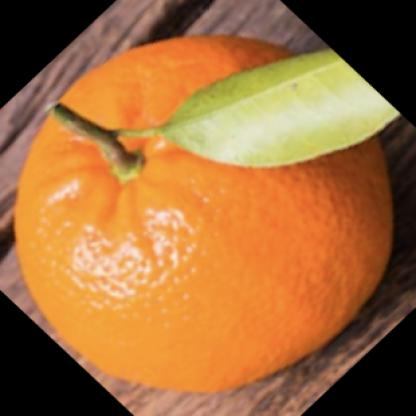fresh: (18, 30, 397, 395)
